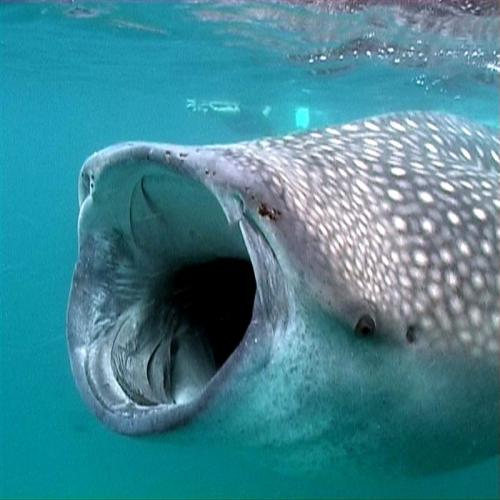shark-endangered: (64, 111, 500, 480)
